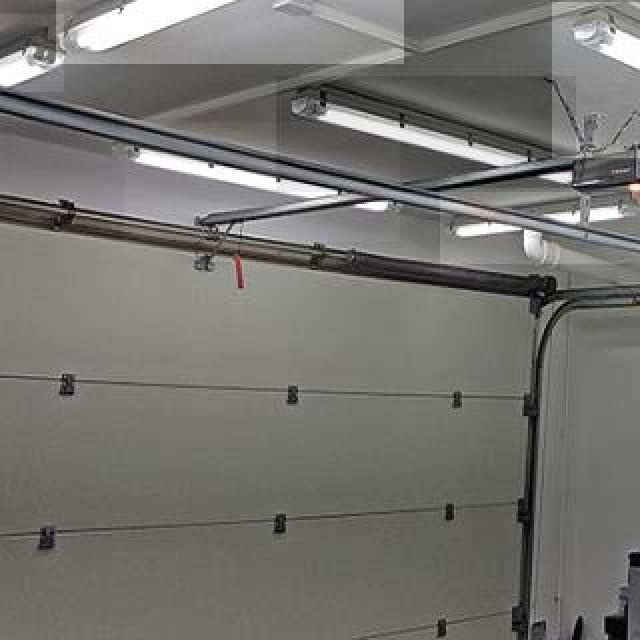fluorescent tube: (104, 113, 412, 240), (291, 71, 553, 196), (58, 0, 410, 46), (442, 180, 640, 260), (548, 4, 640, 164), (2, 0, 72, 108)
